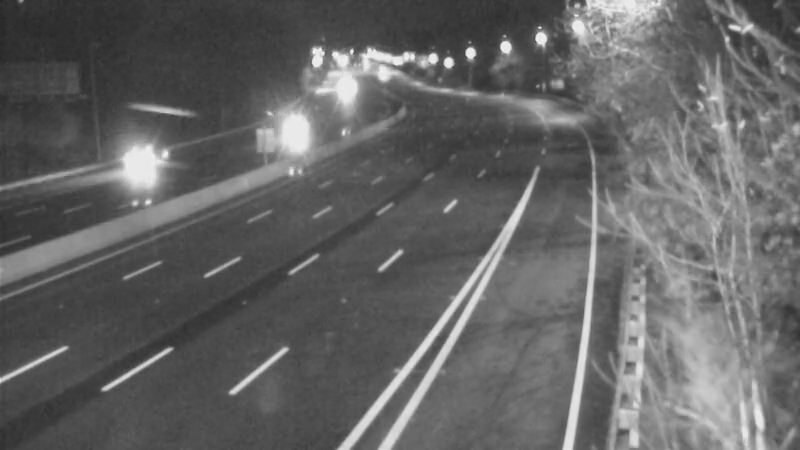vehicle: (102, 115, 182, 195), (273, 105, 323, 155), (319, 63, 369, 113)
